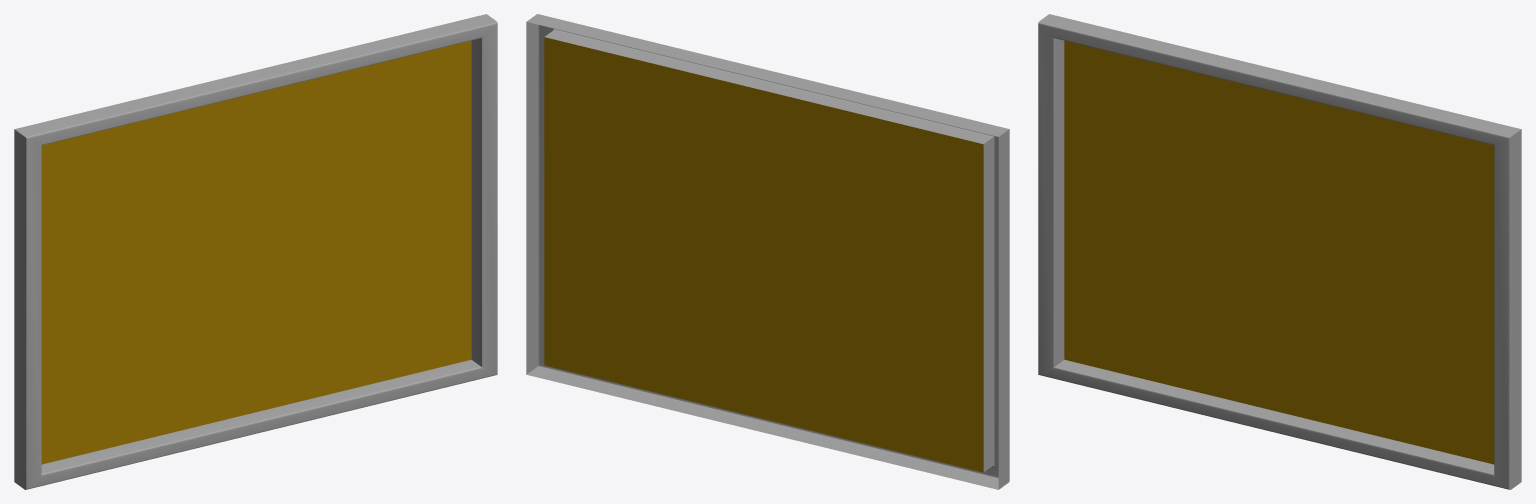
File: En_P_paint50x70_2.fbx
The picture shows the model from 3 angles, left to right: view 1: azimuth 30°, elevation 25°; view 2: azimuth 150°, elevation 25°; view 3: azimuth 330°, elevation 25°; orthographic projection.
Visible parts, largest first — view 1: En_P_paint50x70_2; view 2: En_P_paint50x70_2; view 3: En_P_paint50x70_2.
Boxes of the visible parts, bbox=[...] form: En_P_paint50x70_2: bbox=[14, 14, 497, 489]; En_P_paint50x70_2: bbox=[526, 14, 1009, 489]; En_P_paint50x70_2: bbox=[1038, 14, 1521, 489].
Size of the model in its own units: 70 by 50 by 3.
